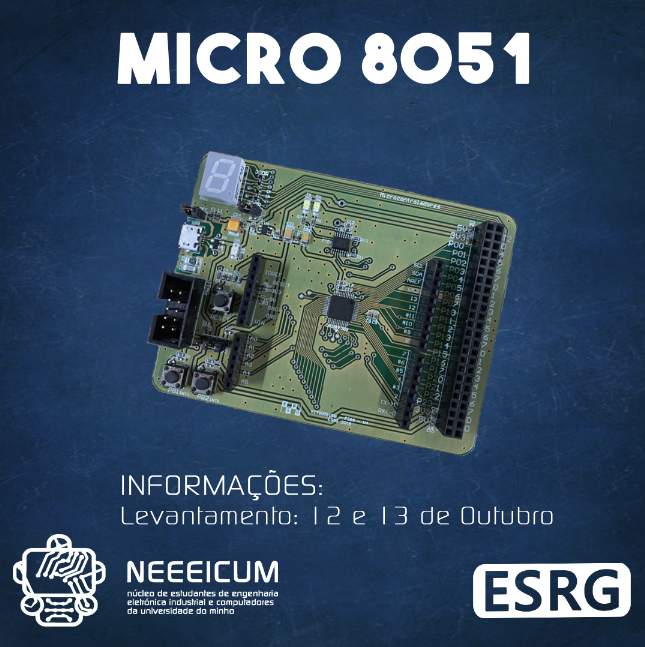neeeicum: (12, 535, 104, 629)
